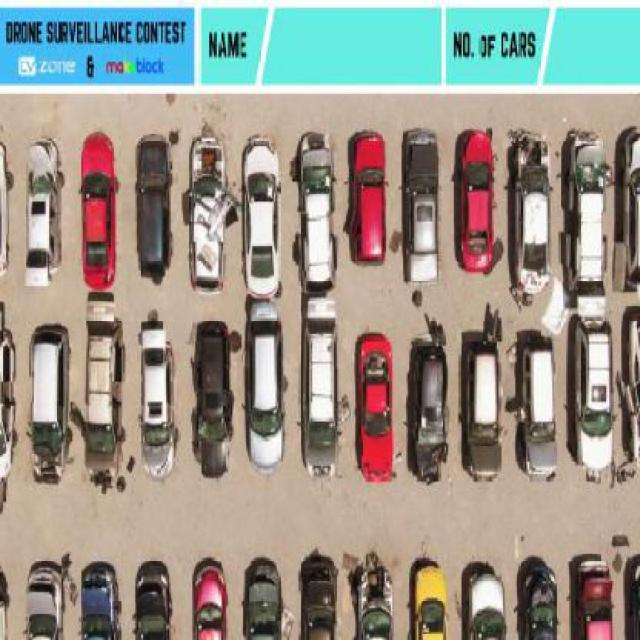car: (565, 304, 614, 471), (79, 294, 120, 481), (510, 131, 556, 295), (27, 322, 73, 484), (452, 125, 502, 273), (302, 291, 342, 474), (136, 315, 180, 480), (190, 316, 234, 480), (298, 132, 342, 295), (242, 137, 286, 299), (565, 130, 608, 294), (348, 330, 394, 479), (76, 129, 119, 287), (248, 299, 287, 471), (343, 128, 390, 266), (186, 134, 226, 295), (134, 132, 176, 285), (408, 335, 450, 485), (463, 337, 506, 482), (403, 128, 441, 290), (519, 336, 560, 479), (21, 137, 58, 282), (297, 547, 343, 639), (515, 552, 563, 639), (570, 550, 614, 638), (618, 128, 640, 297), (243, 554, 286, 639), (24, 557, 68, 639), (131, 557, 174, 639), (75, 558, 118, 639), (461, 562, 506, 639), (0, 297, 18, 478), (354, 562, 395, 639), (192, 559, 229, 639), (623, 305, 640, 475), (411, 560, 448, 638), (0, 140, 14, 280), (626, 551, 640, 637), (0, 565, 12, 639)
